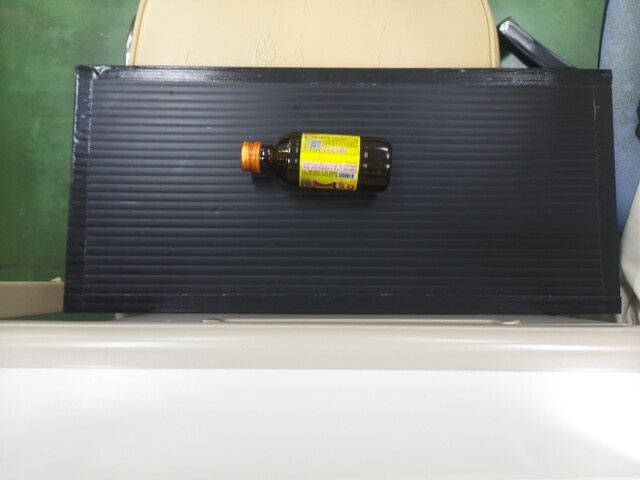glass_bottle: (235, 126, 392, 194)
